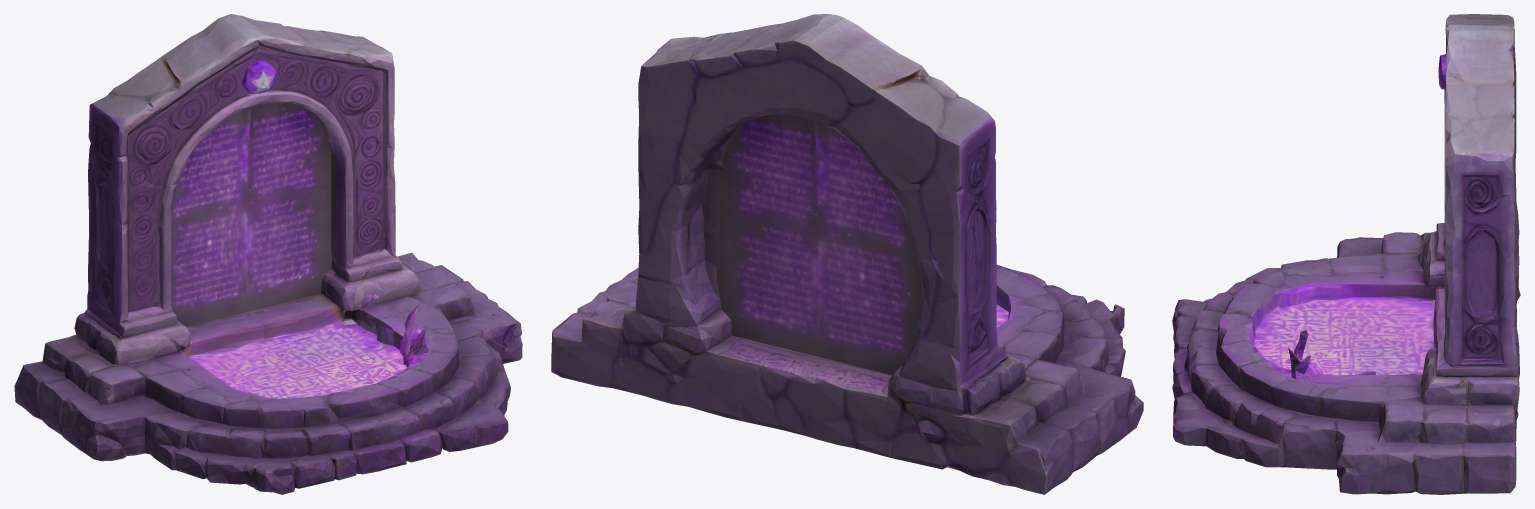
File: an_altar_with_purple__0613134126_texture.fbx
The picture shows the model from 3 angles, left to right: view 1: azimuth 30°, elevation 25°; view 2: azimuth 150°, elevation 25°; view 3: azimuth 270°, elevation 25°; orthographic projection. The views are drawn at different scales.
Parts seen in each view (by area): view 1: temp; view 2: temp; view 3: temp.
Boxes of the visible parts, x1,y1,x2,y2 form: temp: [14, 14, 522, 494]; temp: [551, 14, 1143, 494]; temp: [1172, 14, 1520, 494].
Size of the model in its own units: 200 by 150 by 133.
1 material, 1 textured.
